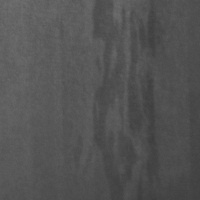inclusion: (91, 1, 162, 198)
